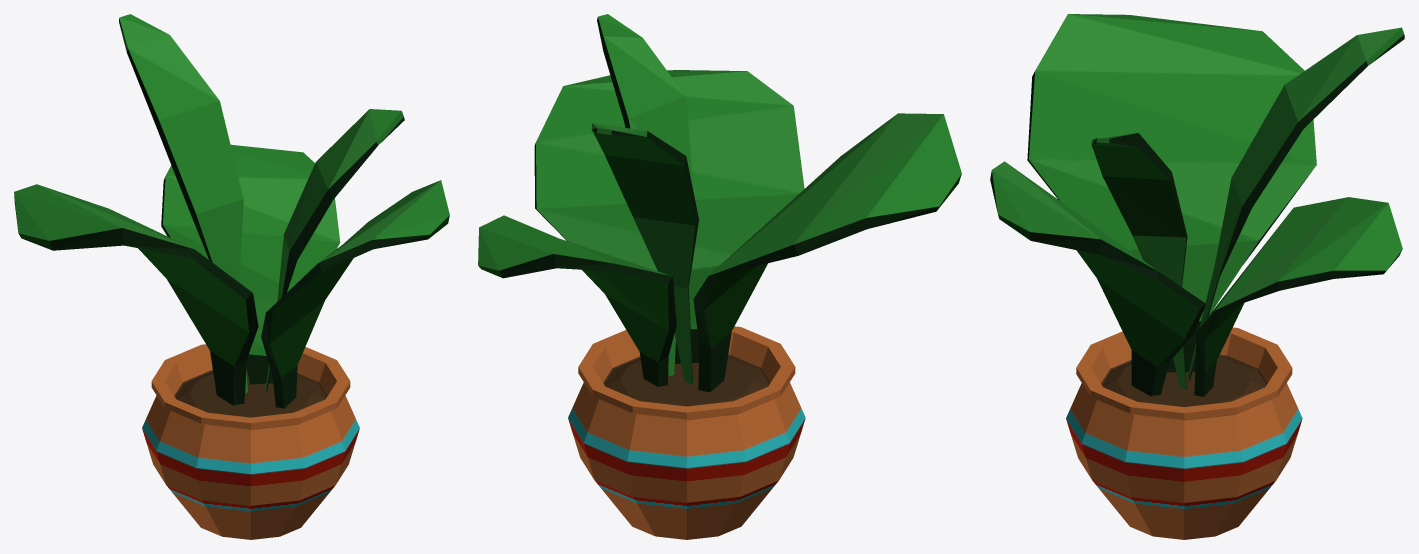
Rendered from pot_plant1.fbx.
3 views of the same model, side by side, from view 1: azimuth 30°, elevation 25°; view 2: azimuth 150°, elevation 25°; view 3: azimuth 270°, elevation 25° (orthographic). The views are drawn at different scales.
Visible parts, largest first — view 1: single_mesh; view 2: single_mesh; view 3: single_mesh.
Part boxes in pixels (left/top/right/bottom): single_mesh: left=14, top=14, right=449, bottom=539; single_mesh: left=478, top=14, right=961, bottom=539; single_mesh: left=990, top=14, right=1404, bottom=539.
Size of the model in its own units: 3.92 by 4.21 by 3.37.
